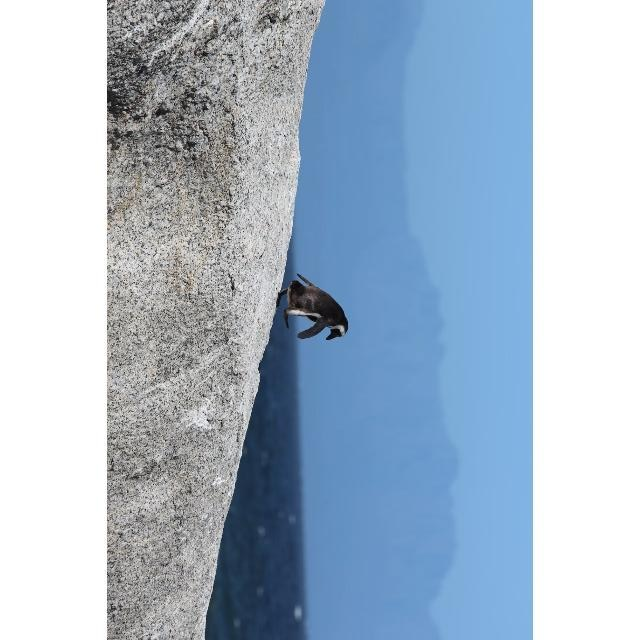penguin: (273, 273, 349, 343)
